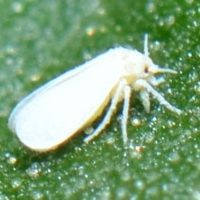insect: (8, 47, 182, 151)
